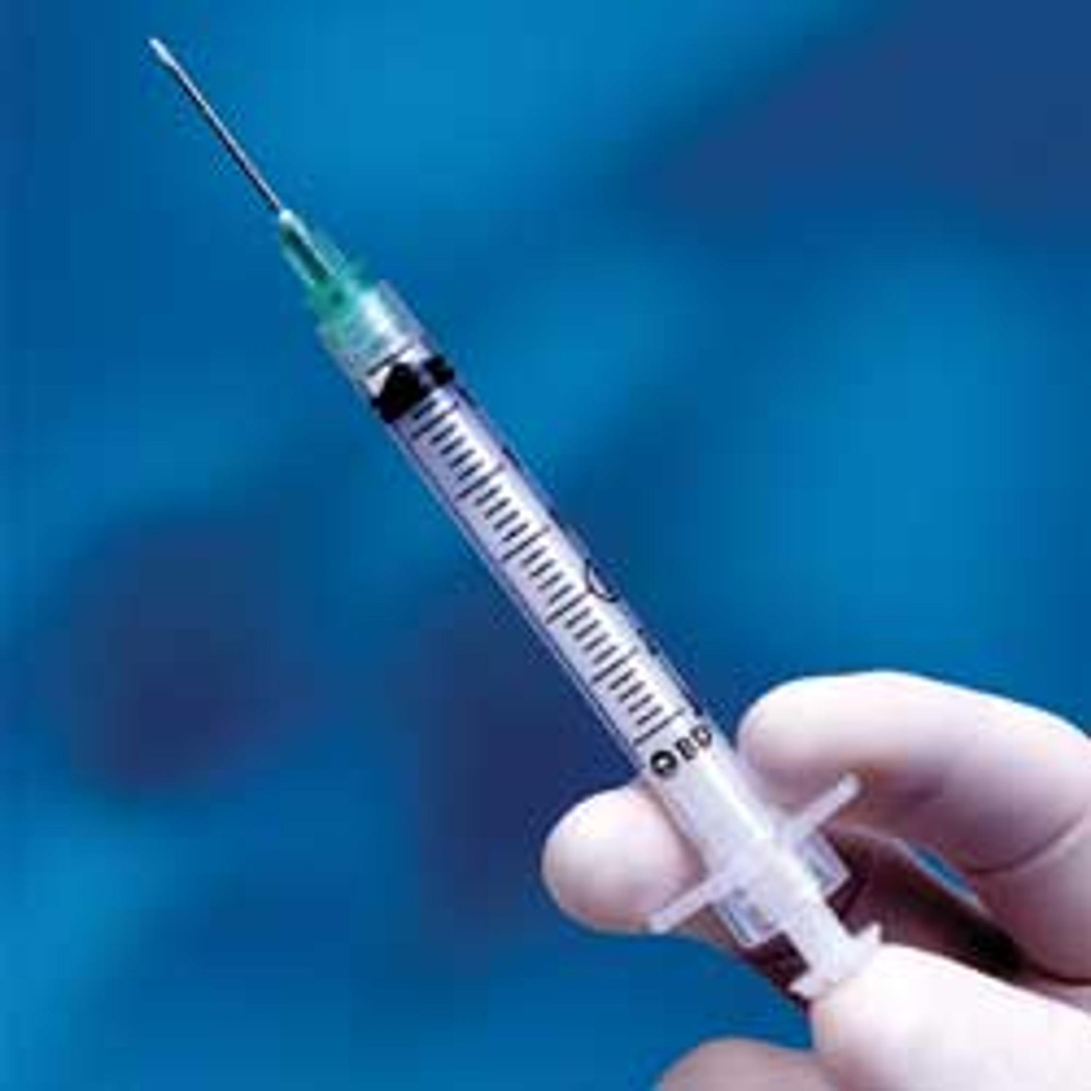Glove: (662, 673, 1090, 1090)
Syringe: (151, 39, 878, 998)
